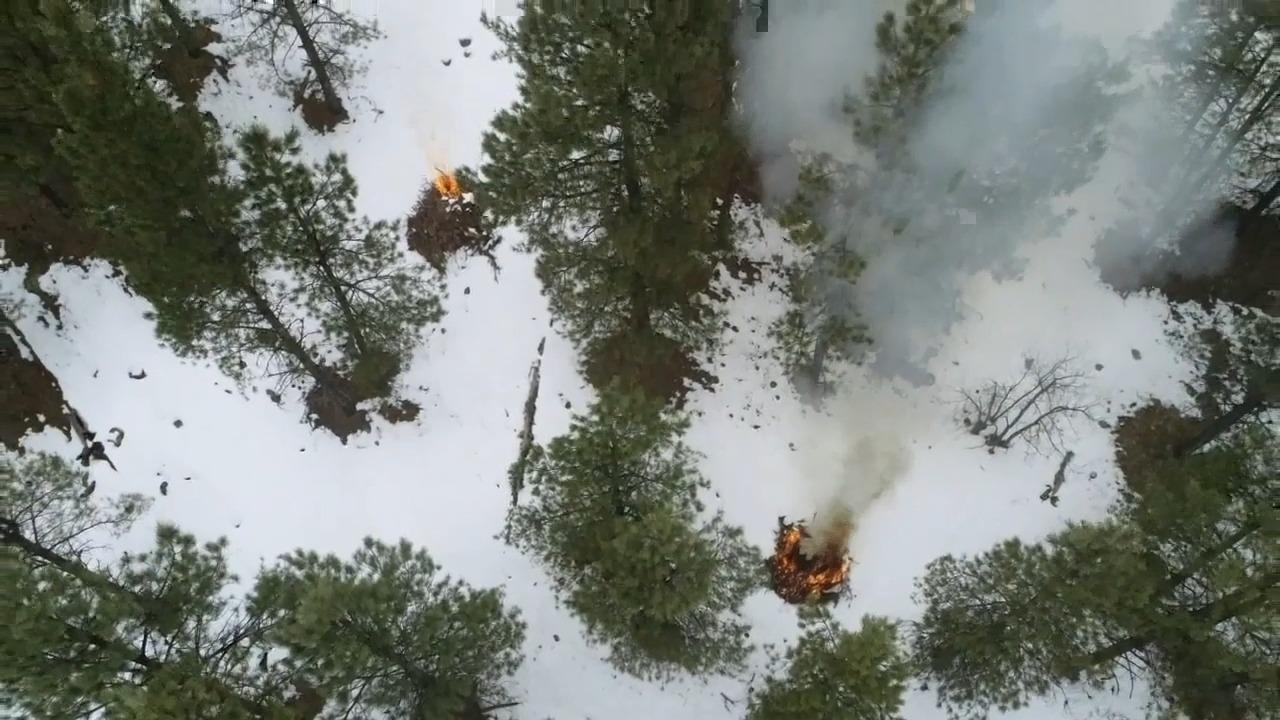fire: (764, 499, 859, 599), (427, 155, 464, 205)
smoke: (850, 0, 1245, 304), (729, 0, 900, 208)
